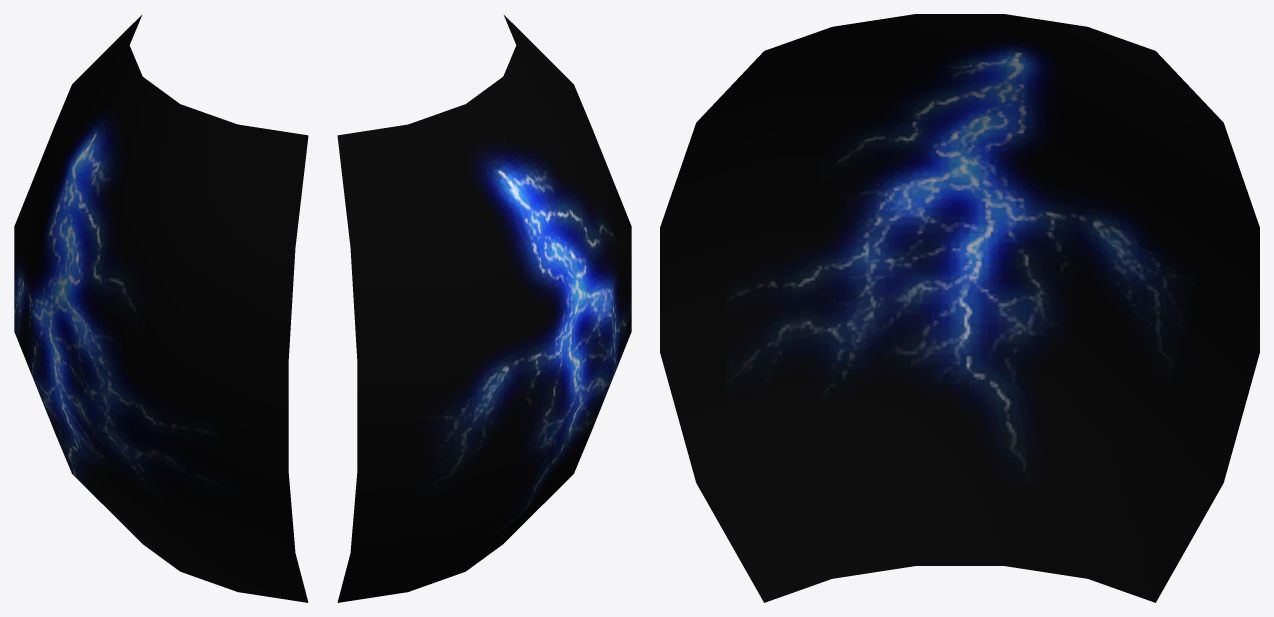
The model's file is sizzling01.FBX.
3 views of the same model, side by side, from view 1: azimuth 30°, elevation 25°; view 2: azimuth 150°, elevation 25°; view 3: azimuth 270°, elevation 25° (orthographic). The views are drawn at different scales.
Parts seen in each view (by area): view 1: sizzling01; view 2: sizzling01; view 3: sizzling01.
Boxes of the visible parts, box(x1,y1,x2,y2) form: sizzling01: box(14, 15, 308, 602); sizzling01: box(337, 15, 631, 602); sizzling01: box(660, 14, 1259, 602).
Size of the model in its own units: 16.05 by 44.18 by 43.5.
Materials: 1 (1 with a texture image).
